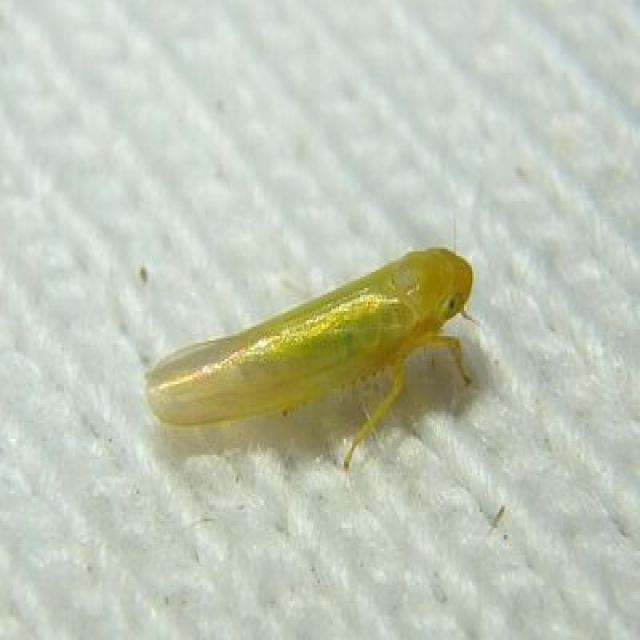Yechan: (120, 232, 490, 472)
